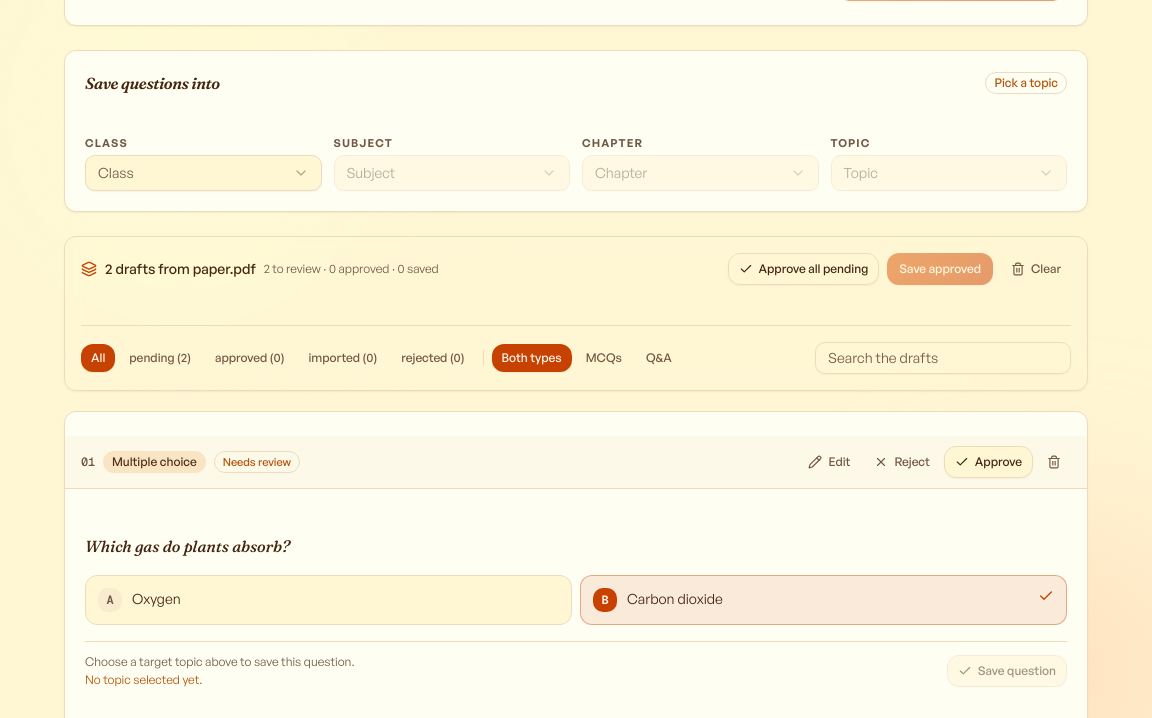
AI Studio › filters the queue by type and search text
The width and height of the screenshot is (1152, 718).
(page scrolled)
Expected: the text "Which gas do plants absorb?" is shown, [85,536,290,556]
Click the button "Q&A": (659, 358) [636,344,682,372]
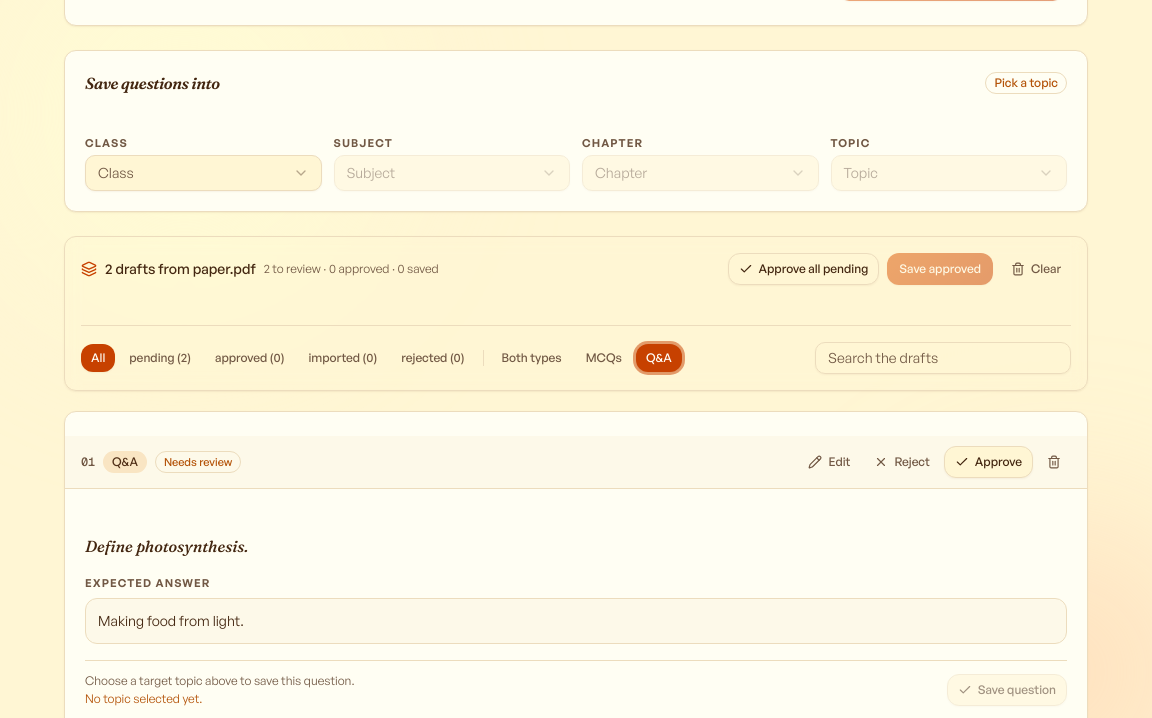
Expected: the text "Define photosynthesis." is shown, [85,536,248,556]
Expected: the text "Which gas do plants absorb?" is gone
Click the button "MCQs": (604, 358) [576,344,632,372]
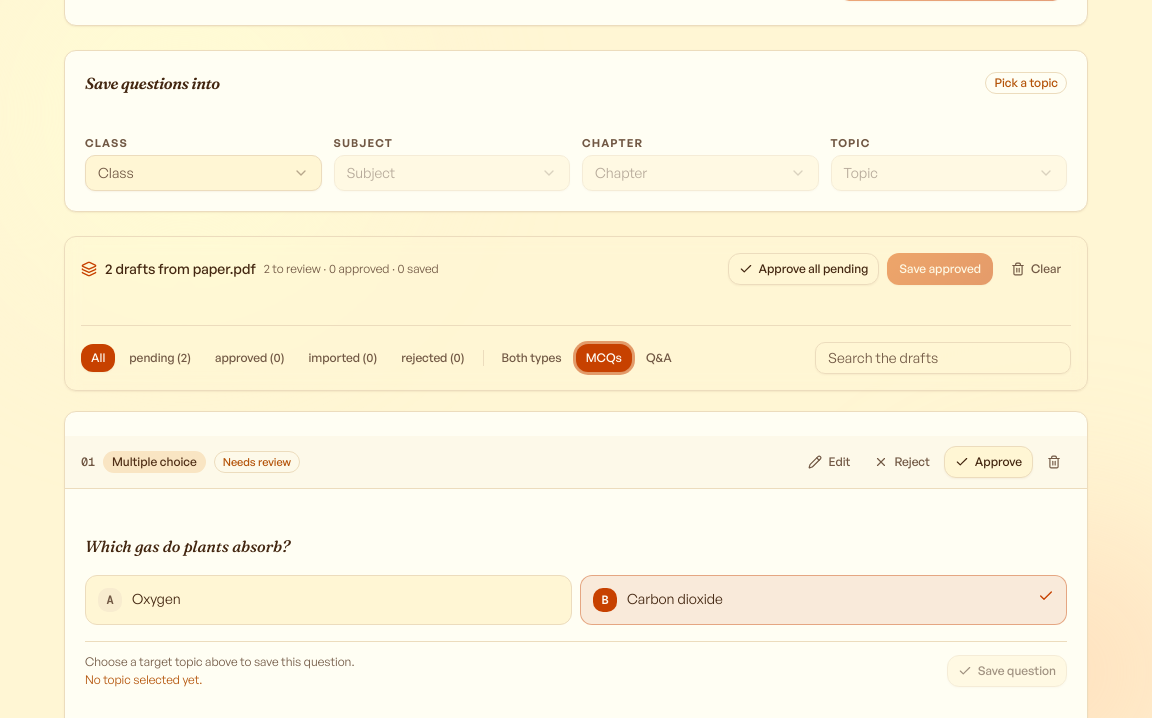
In the field named "search drafts": (943, 358) [815,342,1071,374], type "photosynthesis"
(page scrolled)
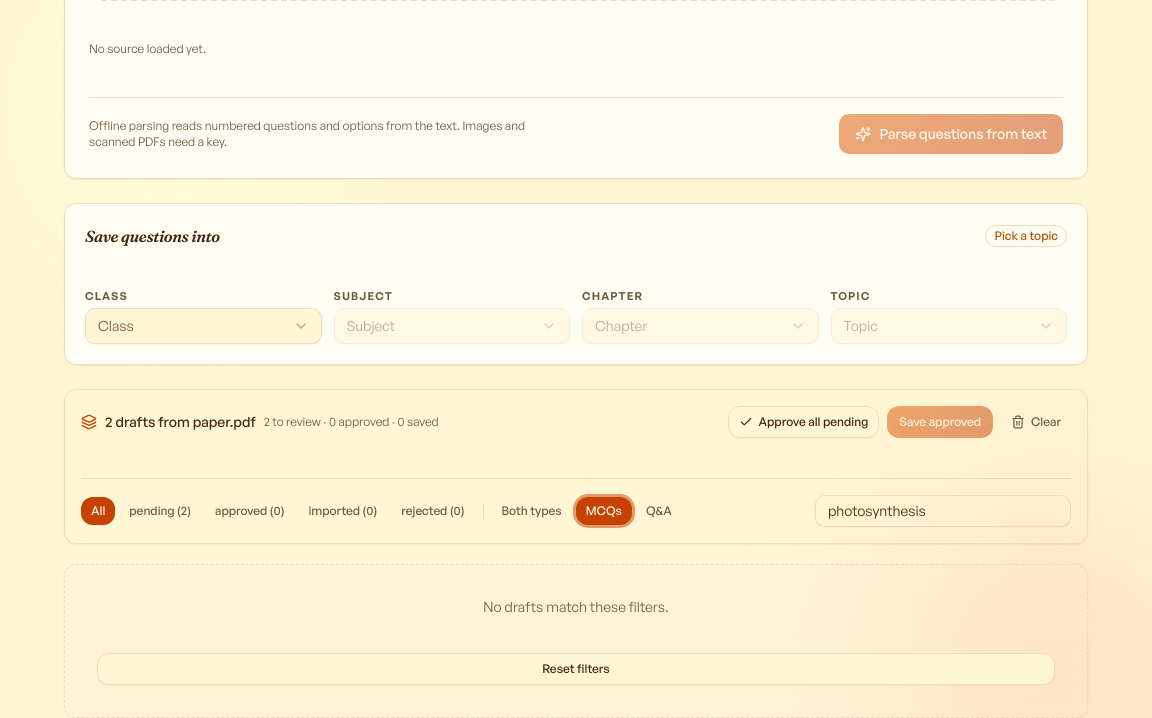
Expected: the text "No drafts match these filters." is shown, [483,598,669,615]
